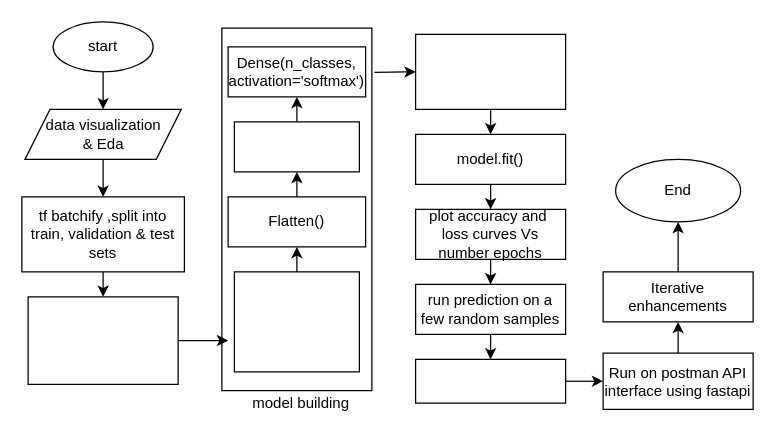
Some shapes in this 775 by 444 pixel diagram are drawn without their labels. The shapes that lost their labels are listed below. From the top down, each one's centre as x and y in pixels, then its label:
At point 490,71: "compile using adam optimizer and loss function".
At point 296,146: "Dense(64, activation='relu')".
At point 102,340: "data preprocessing (cache, shuffle, prefetch, resize, rescale, augumentation)".
At point 296,321: "applying convolution layer follwed by maxpooling iterativley(6)".
At point 490,380: "save the model".
